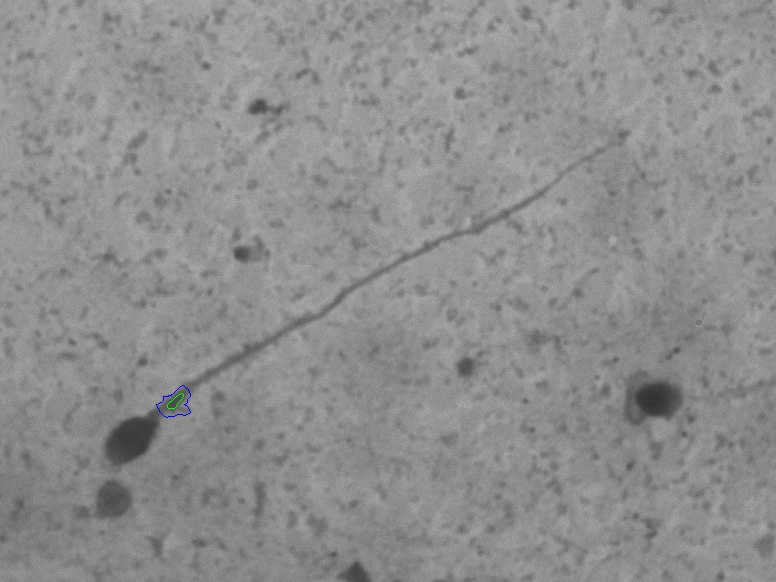Abnormal: (608, 315, 701, 460)
Normal: (78, 132, 585, 473)
